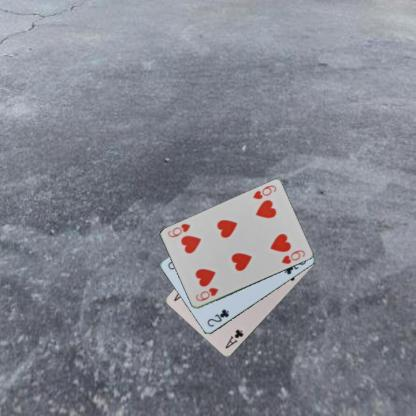2c: (204, 307, 230, 328)
6h: (250, 182, 278, 200), (193, 285, 220, 303)
Ac: (222, 327, 245, 350)
